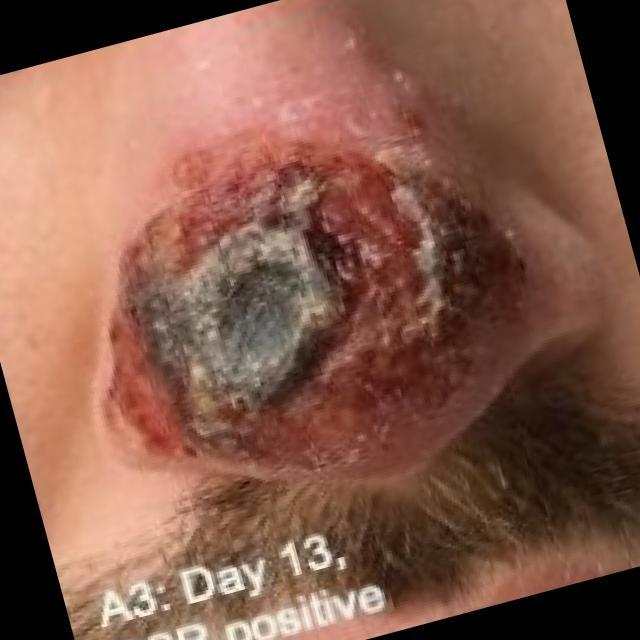Eczema: (91, 154, 512, 478)
